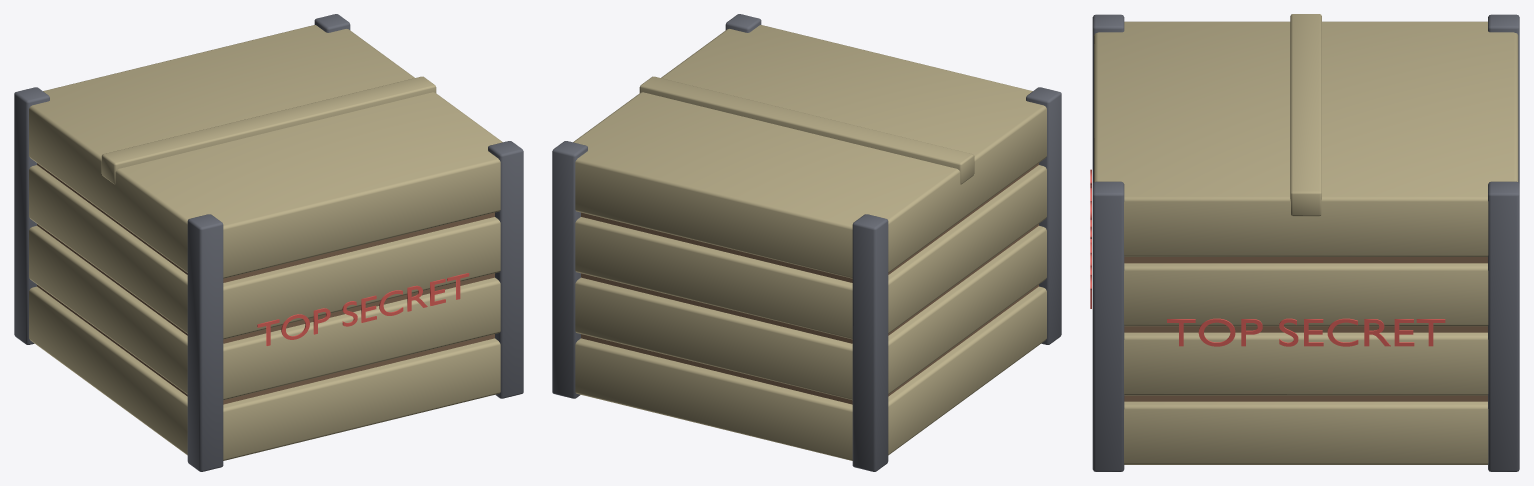
Rendered from crate.glb.
The picture shows the model from 3 angles, left to right: view 1: azimuth 30°, elevation 25°; view 2: azimuth 150°, elevation 25°; view 3: azimuth 270°, elevation 25°; orthographic projection. The views are drawn at different scales.
Visible parts, largest first — view 1: Cube.004, Cube.001, Cube.003, Cube.002, Cube.005, Cube.009, Cube.007, Cube, Cube.006, txt; view 2: Cube.004, Cube.002, Cube.001, Cube.003, Cube.006, Cube.009, Cube.008, Cube, Cube.005; view 3: Cube.004, Cube.001, Cube.003, Cube.002, Cube.007, Cube.008, Cube, Cube.009, txt.001, Cube.005, Cube.006.
Part boxes in pixels (x1,y1,x2,y2): Cube.004: (29,25,502,278); Cube.001: (29,286,500,460); Cube.003: (29,165,500,339); Cube.002: (29,226,500,400); Cube.005: (187,214,223,471); Cube.009: (101,76,436,184); Cube.007: (488,141,523,398); Cube: (37,163,494,404); Cube.006: (14,87,49,344); txt: (257,273,469,345); Cube.004: (573,25,1046,278); Cube.002: (575,226,1046,400); Cube.001: (575,286,1046,460); Cube.003: (575,165,1046,339); Cube.006: (852,214,888,471); Cube.009: (639,76,974,184); Cube.008: (552,141,587,398); Cube: (581,163,1038,404); Cube.005: (1026,87,1061,344); Cube.004: (1094,21,1518,256); Cube.001: (1124,401,1488,464); Cube.003: (1124,263,1488,326); Cube.002: (1124,332,1488,395); Cube.007: (1092,181,1124,471); Cube.008: (1488,181,1519,471); Cube: (1124,257,1487,401); Cube.009: (1290,14,1321,216); txt.001: (1167,318,1445,346); Cube.005: (1092,14,1124,183); Cube.006: (1488,14,1519,183).
Size of the model in its own units: 81.45 by 58.65 by 81.45.
